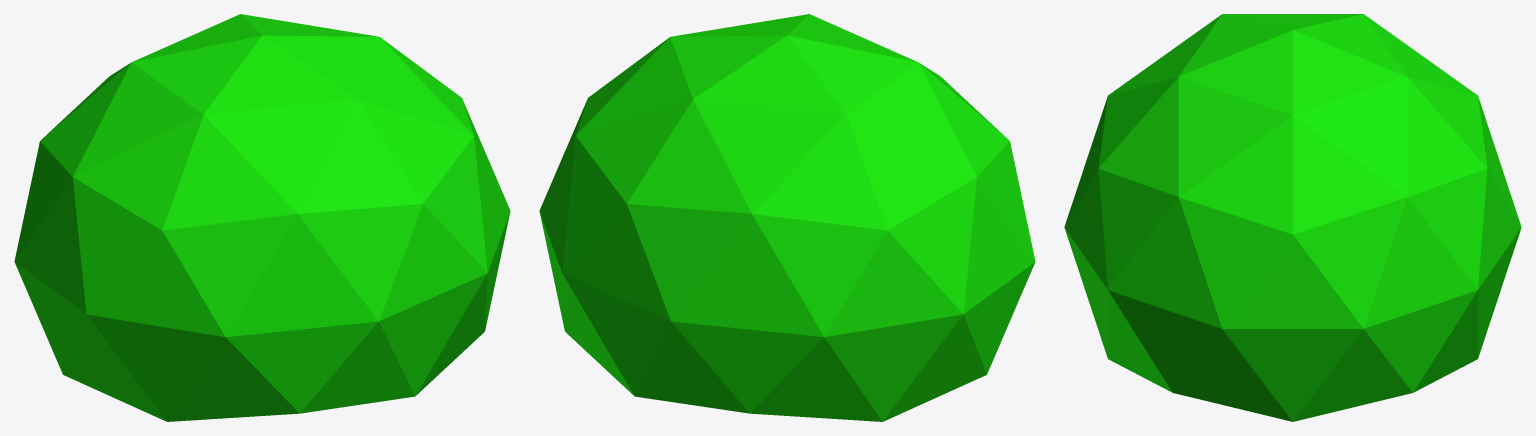
Rendered from Bush.fbx.
3 views of the same model, side by side, from view 1: azimuth 30°, elevation 25°; view 2: azimuth 150°, elevation 25°; view 3: azimuth 270°, elevation 25° (orthographic).
Visible parts, largest first — view 1: Icosphere; view 2: Icosphere; view 3: Icosphere.
Part boxes in pixels (x1,y1,x2,y2): Icosphere: [14, 14, 510, 421]; Icosphere: [539, 14, 1035, 421]; Icosphere: [1064, 14, 1521, 421].
Bounding box in the file's own units: 298 × 210 × 284.
